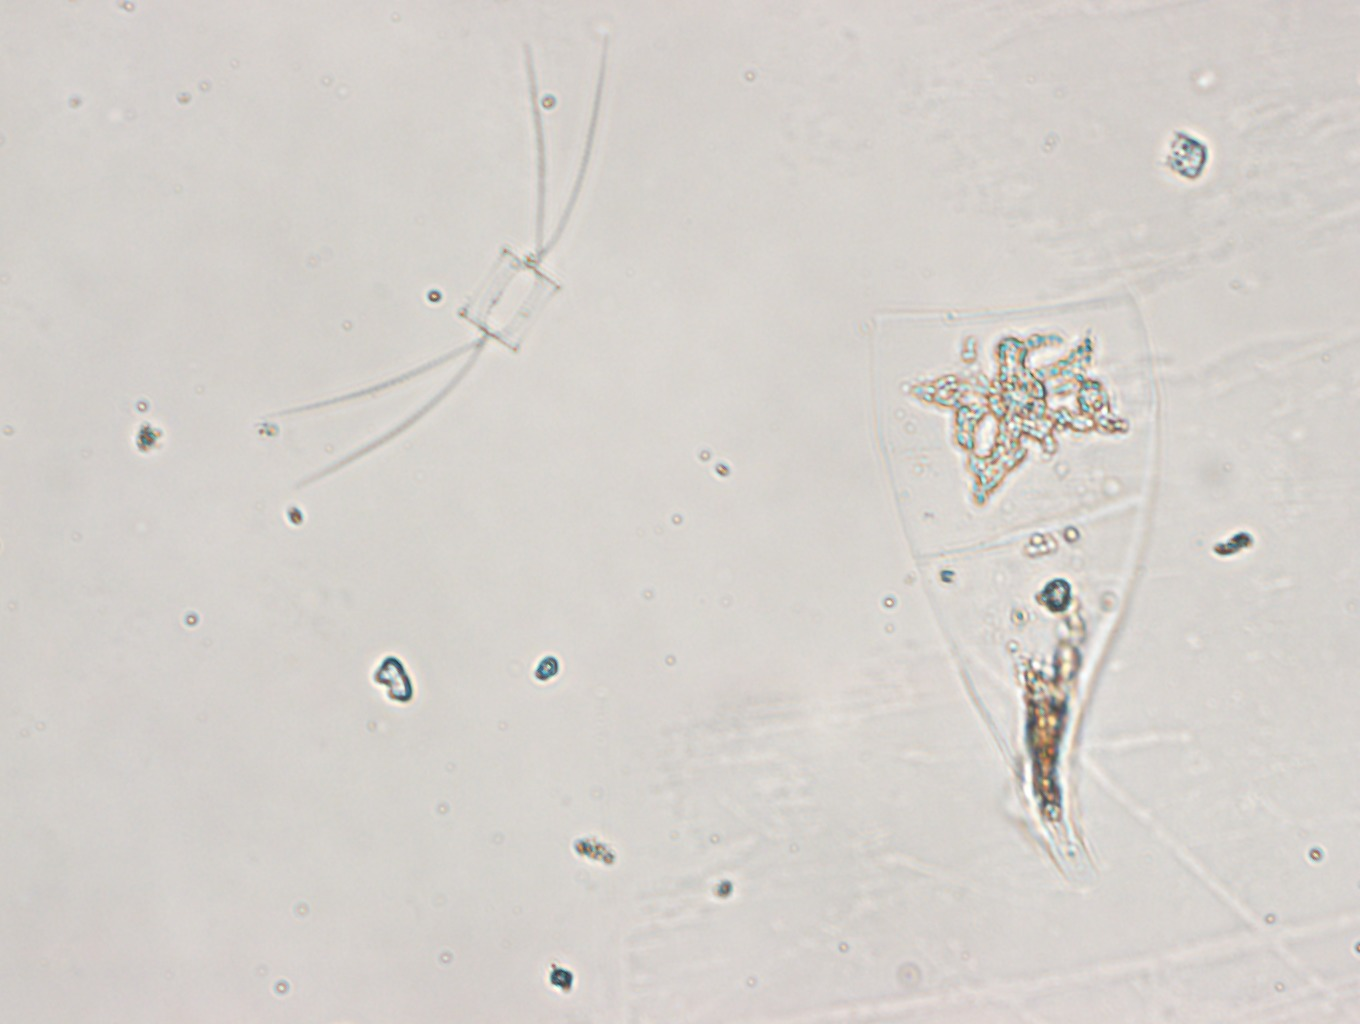chaetoceros: (259, 30, 609, 487)
helicotheca: (865, 291, 1161, 890)
